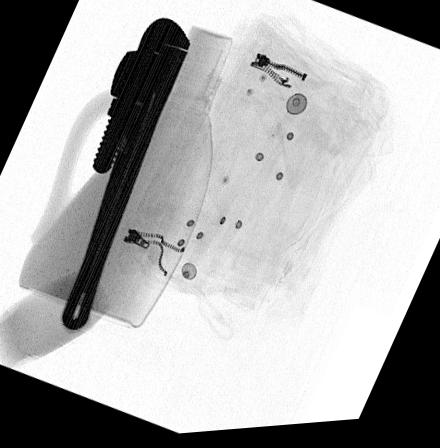Wrench: (60, 18, 193, 333)
